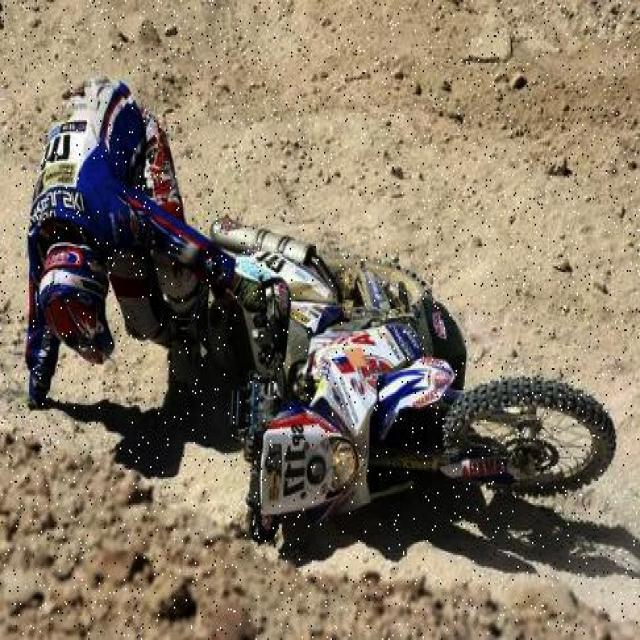fall: (12, 72, 196, 402)
